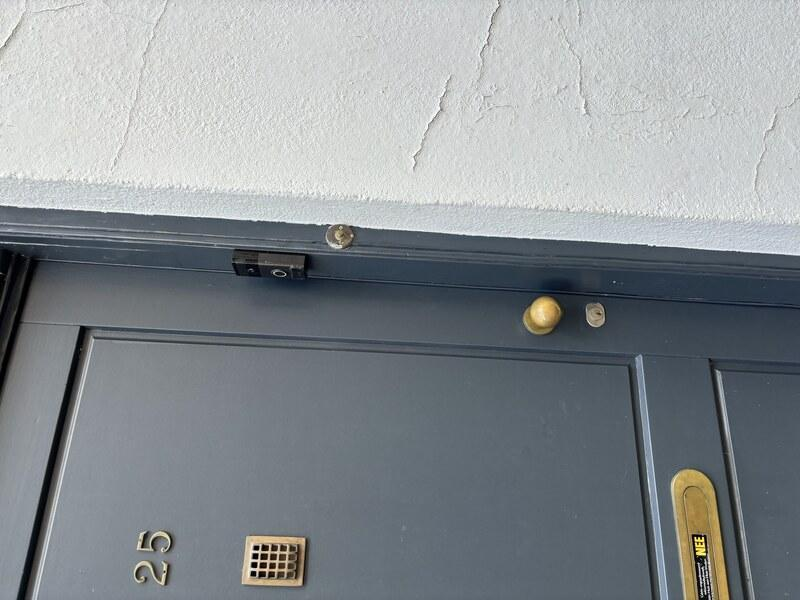doorbell: (310, 229, 354, 316)
